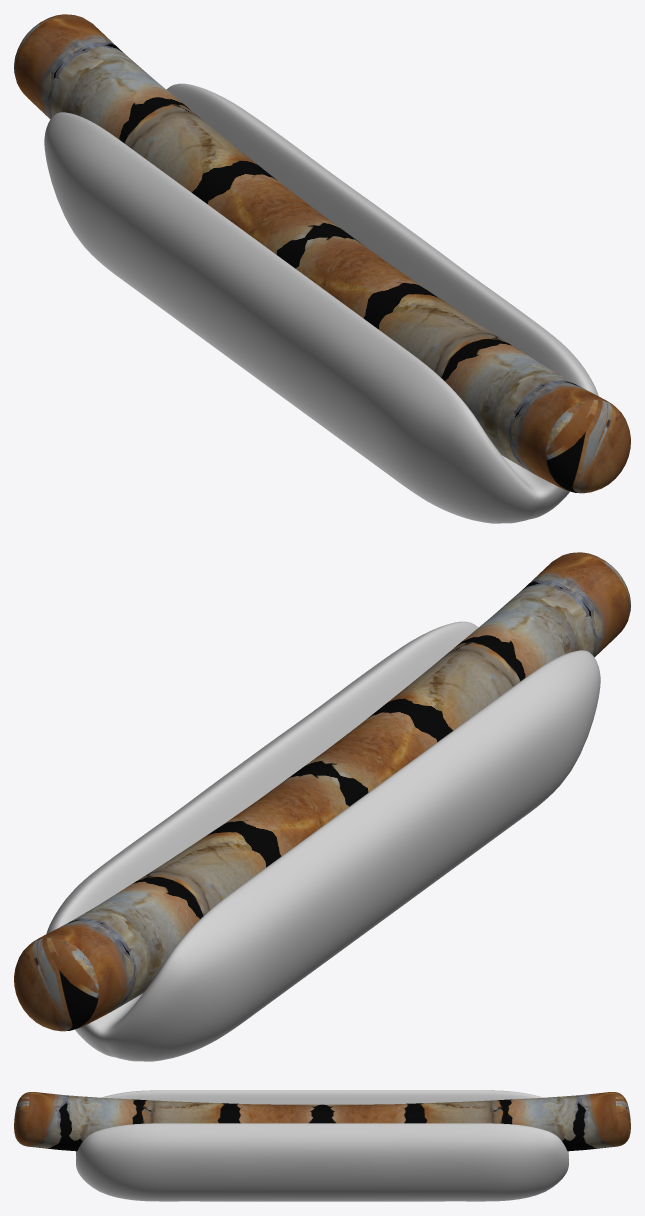
File: hotdog.dae
3 renders of one model, top to bottom at view 1: azimuth 30°, elevation 25°; view 2: azimuth 150°, elevation 25°; view 3: azimuth 270°, elevation 25°, orthographic. The views are drawn at different scales.
Visible parts, largest first — view 1: hotdog; view 2: hotdog; view 3: hotdog.
Part boxes in pixels (x1=…): hotdog: x1=14, y1=14, x2=630, y2=523; hotdog: x1=14, y1=552, x2=630, y2=1061; hotdog: x1=14, y1=1090, x2=630, y2=1201.
Bounding box in the file's own units: 0.3067 × 1.59 × 0.2846.
